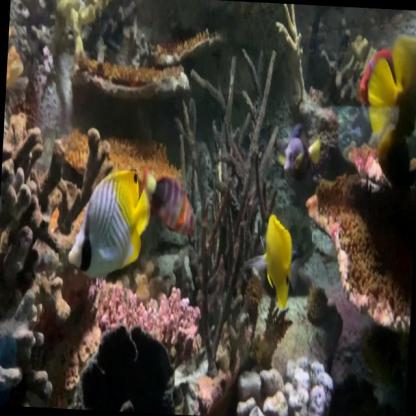fish: (66, 167, 152, 280), (368, 35, 416, 138), (262, 214, 294, 313), (147, 175, 198, 236), (279, 123, 322, 181), (359, 48, 398, 108)
